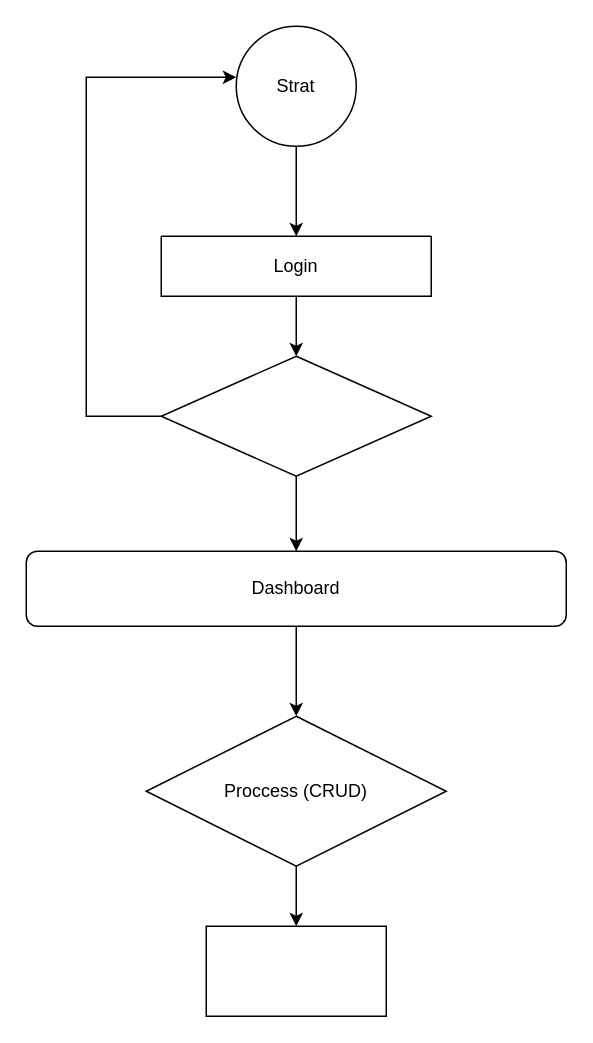
Some shapes in this 593 by 1043 pixel diagram are drawn without their labels. Here are the shapes that lost their labels. From the top down, the centre of each, then its label:
the point at 295,415: Validation
the point at 295,970: Logout
